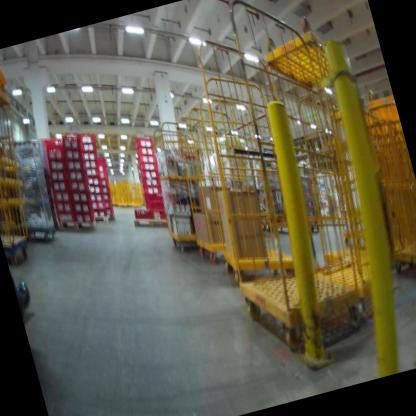pallet: (54, 207, 96, 239), (131, 209, 173, 239), (91, 208, 111, 229), (105, 208, 119, 228)
